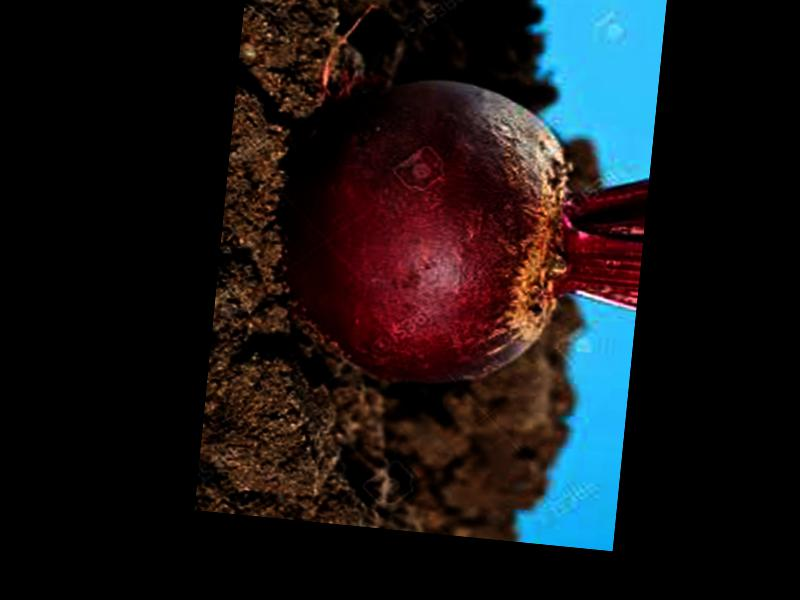Beet: (270, 63, 654, 402)
